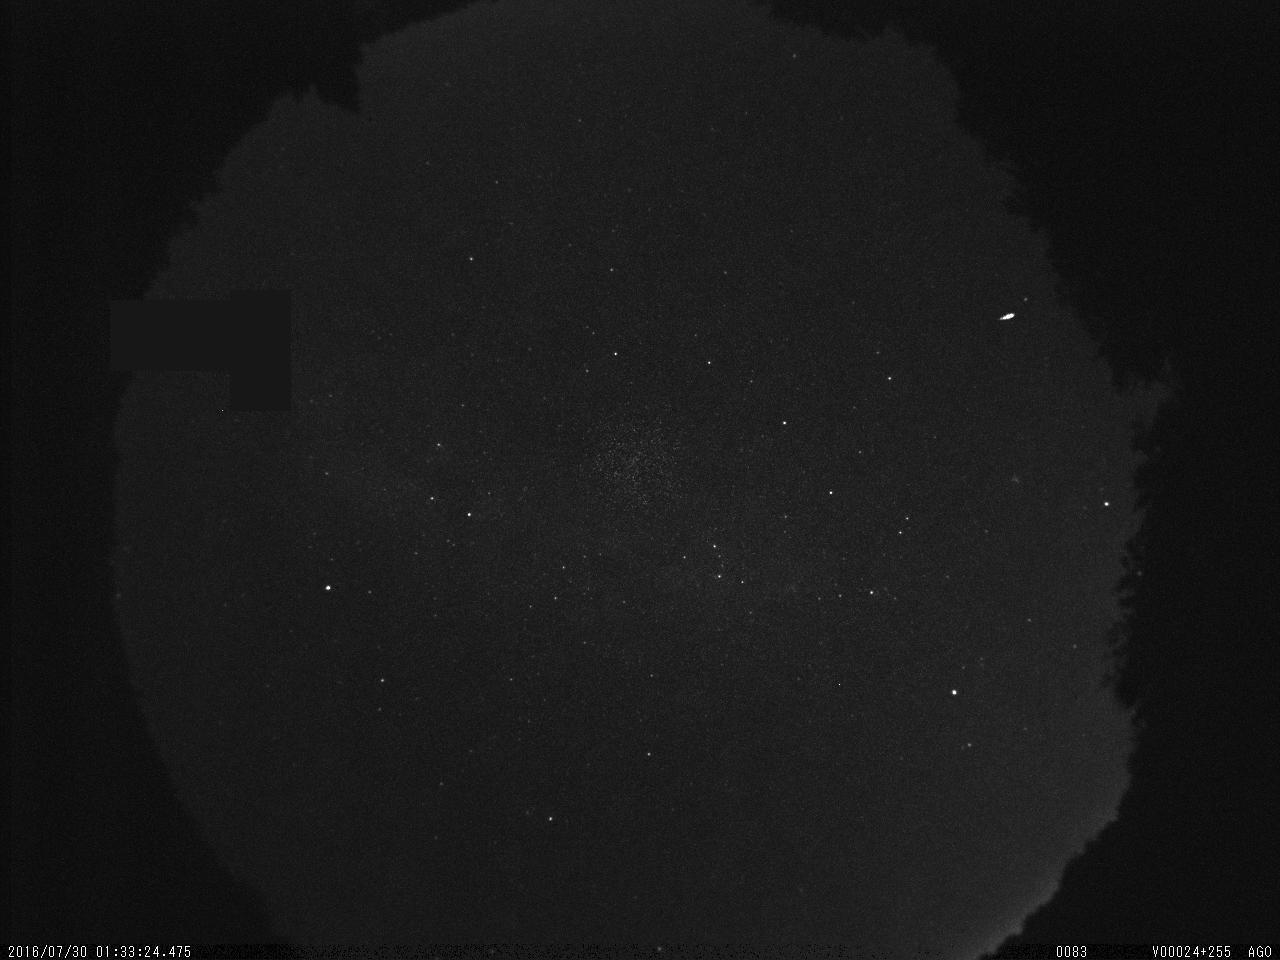meteor: (990, 304, 1023, 328)
